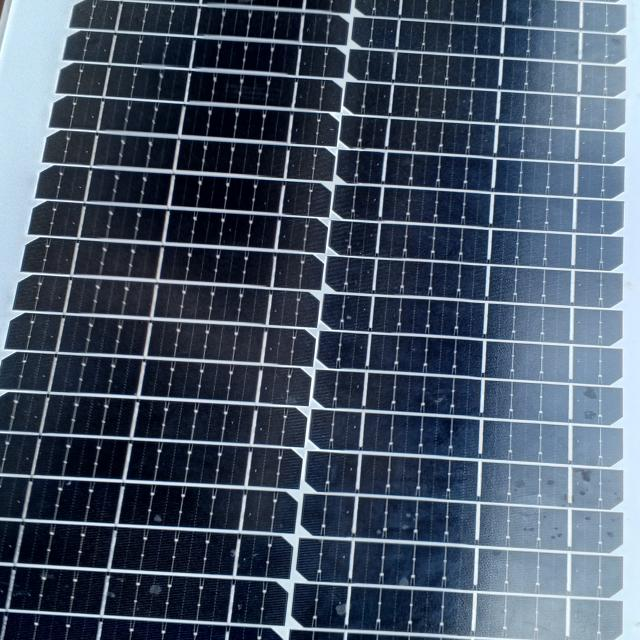Clean: (21, 0, 633, 640)
